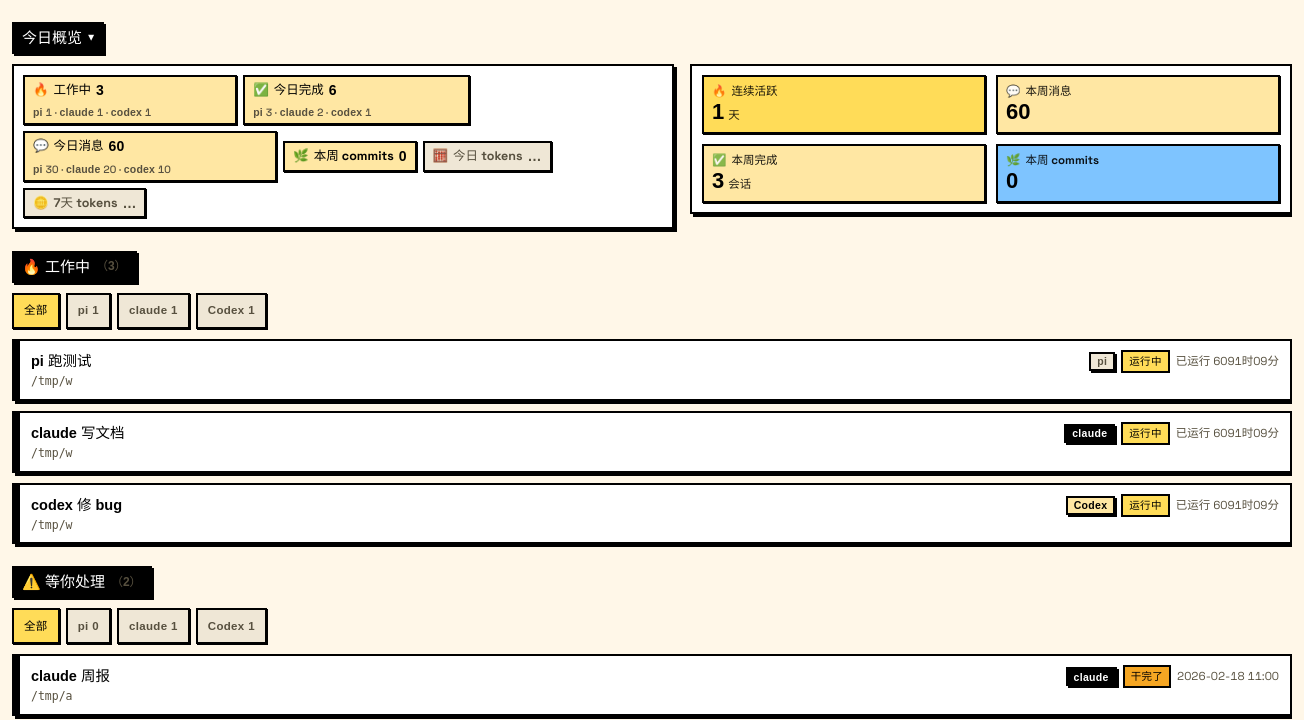
Test: HomePage 来源过滤 chips（工作中 / 等你处理） › 等你处理组按来源过滤（pi 0 → 空态文案）
This screenshot has width=1304, height=720.
What coordinates should you click on to do the following:
click the button "pi 0"
I would click on:
 (88, 626)
Its box is [66,608,111,644].
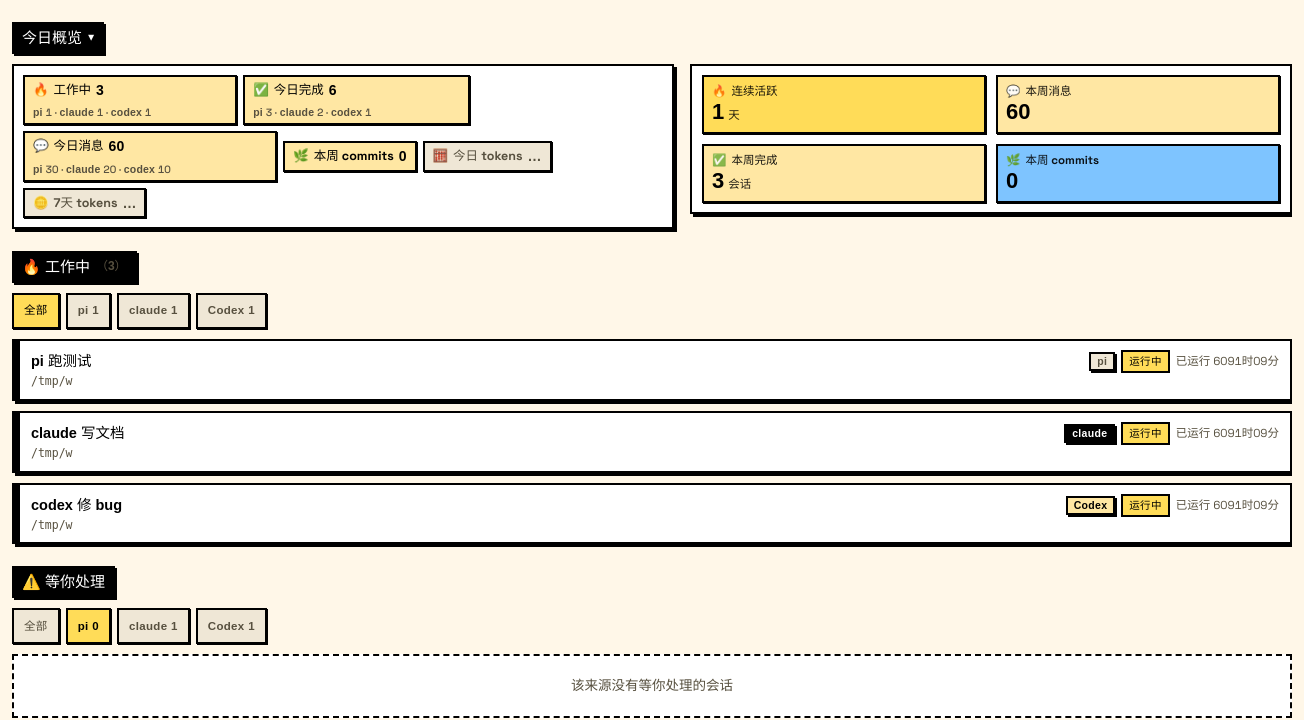
Expected: the text "pi 跑测试" is shown, [31,353,91,369]
Now the text "该来源没有等你处理的会话" is shown, box [12,654,1292,718]
